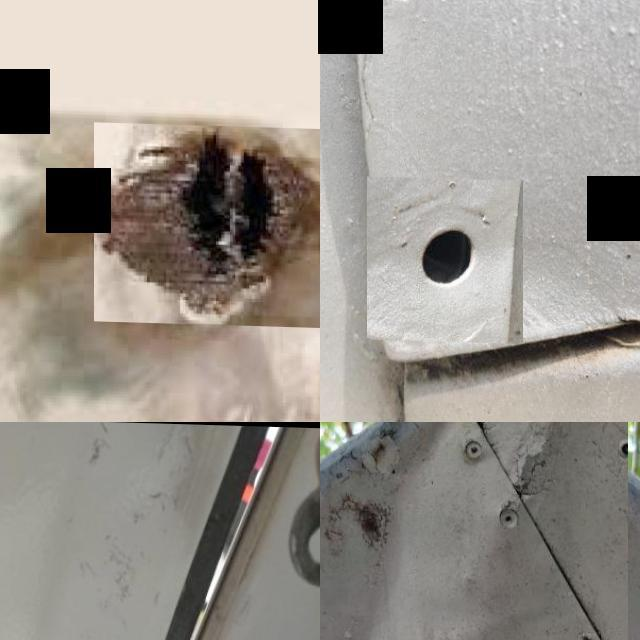Crack: (94, 124, 320, 323)
Dent: (320, 422, 627, 640)
Missing_Fastener: (367, 175, 523, 342)
